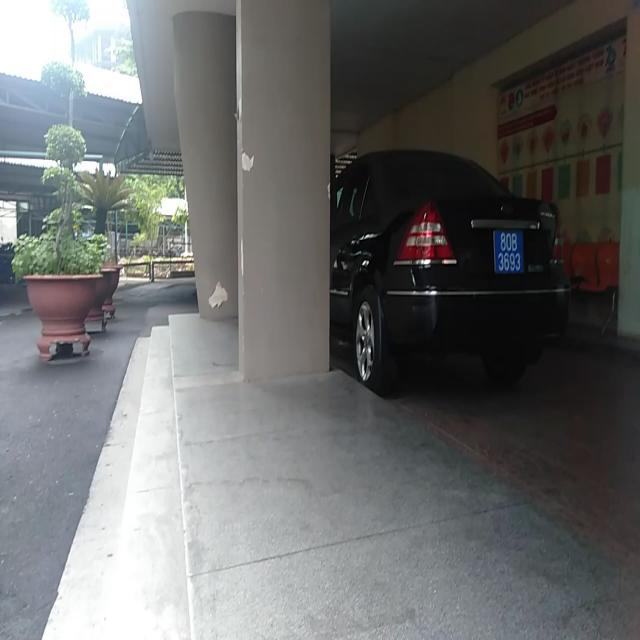bien_xanh: (493, 229, 522, 275)
